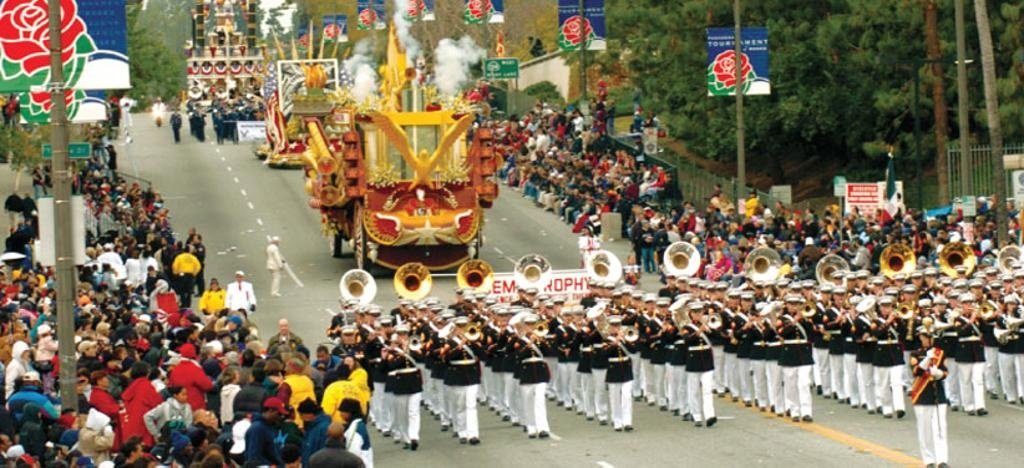human_face: (268, 405, 280, 422), (130, 446, 142, 460), (920, 332, 932, 346), (300, 410, 312, 422), (174, 388, 186, 400), (962, 300, 974, 312), (181, 441, 191, 455), (340, 406, 350, 419), (98, 375, 108, 387), (284, 362, 294, 374), (457, 322, 467, 334), (525, 320, 535, 332), (690, 308, 702, 318), (658, 302, 668, 314), (788, 299, 798, 311), (834, 291, 844, 303), (742, 297, 752, 309), (905, 290, 915, 302), (846, 277, 856, 289), (958, 282, 968, 294), (222, 336, 232, 348), (188, 328, 198, 340), (316, 350, 326, 361), (86, 345, 96, 355), (369, 312, 379, 322), (716, 287, 726, 297), (881, 302, 891, 312), (857, 275, 867, 285), (834, 274, 844, 284), (912, 274, 922, 284), (894, 276, 904, 286), (344, 331, 352, 343), (398, 328, 406, 340), (382, 321, 390, 333), (364, 310, 372, 322), (554, 300, 562, 312), (610, 321, 618, 333), (598, 315, 606, 327), (822, 289, 830, 301), (804, 284, 812, 296), (731, 294, 739, 306), (888, 291, 896, 303), (1016, 276, 1024, 288), (280, 320, 288, 331), (18, 349, 26, 359), (231, 371, 239, 381), (229, 319, 237, 329), (498, 312, 506, 322), (562, 311, 570, 321), (575, 311, 583, 321), (546, 306, 556, 314), (526, 290, 534, 300), (646, 300, 654, 310), (633, 296, 641, 306), (606, 286, 614, 296), (598, 284, 606, 294), (708, 288, 716, 298), (792, 287, 800, 297), (778, 284, 786, 294), (936, 300, 944, 310), (874, 282, 882, 292), (972, 284, 980, 294), (1004, 280, 1012, 290), (988, 270, 996, 280), (926, 273, 934, 283), (937, 228, 945, 238), (765, 287, 775, 295), (992, 284, 998, 296), (764, 232, 772, 241), (180, 316, 188, 324), (700, 286, 708, 294), (950, 294, 958, 302), (754, 287, 762, 295), (235, 272, 241, 282), (360, 311, 366, 321), (668, 276, 674, 286), (211, 282, 217, 290), (614, 295, 620, 303), (622, 292, 628, 300), (678, 280, 684, 288), (691, 283, 697, 291), (947, 215, 953, 223), (465, 300, 471, 308), (974, 216, 980, 223), (590, 284, 596, 290), (852, 240, 858, 246), (1008, 220, 1014, 226), (456, 294, 462, 300), (518, 290, 524, 296), (986, 224, 990, 230)
